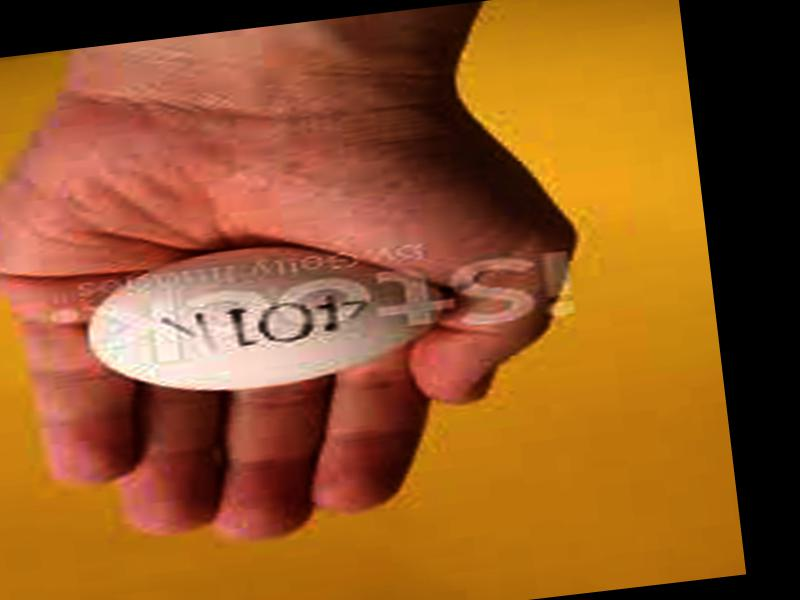Eggs: (80, 227, 452, 406)
